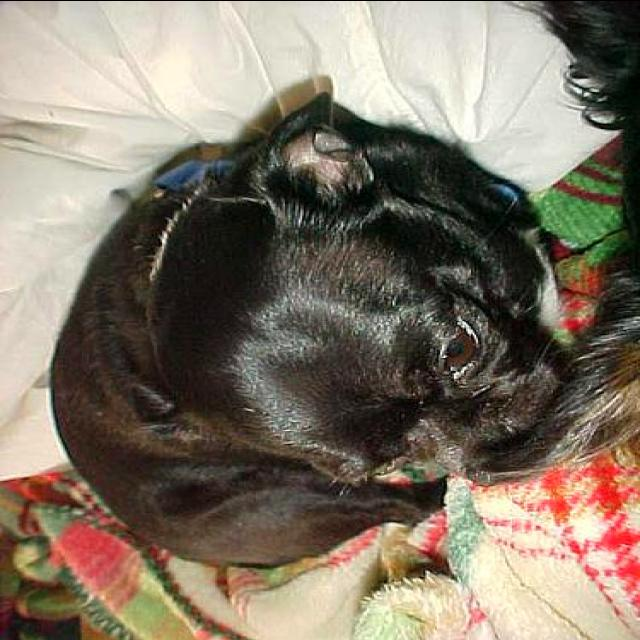chihuahua: (46, 83, 596, 565)
